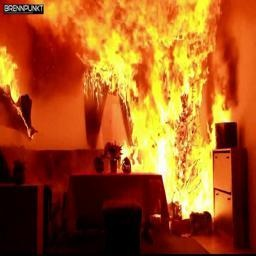fire: (26, 1, 230, 209)
